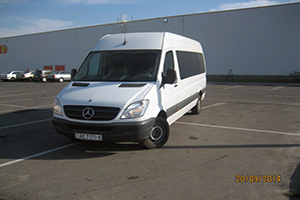van: (52, 32, 208, 150)
